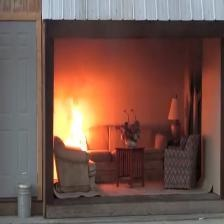fire: (53, 95, 95, 141)
